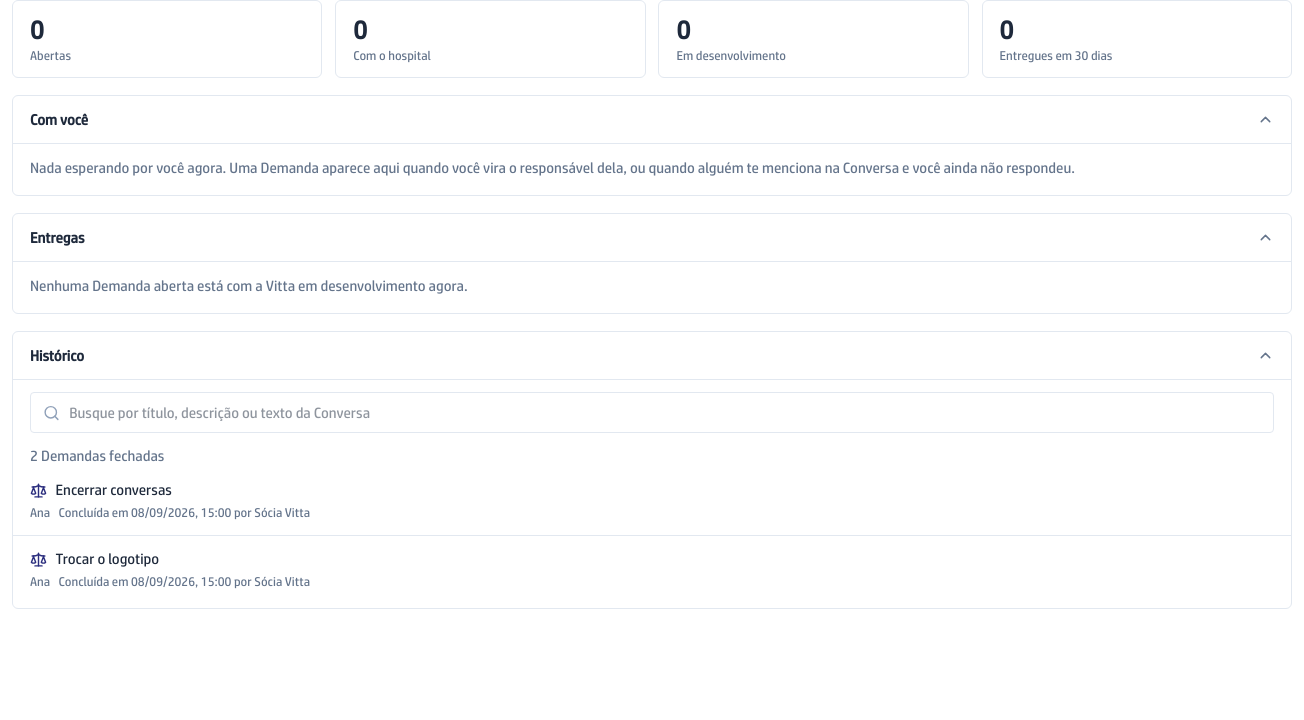
Test: Histórico › apagar a busca traz o Histórico inteiro de volta
The width and height of the screenshot is (1304, 720).
Expected: the text "Encerrar conversas" is shown, [56, 480, 172, 501]
Type "logotipo" into the search field named "Buscar no Histórico" at (652,413), box [30, 392, 1274, 433]
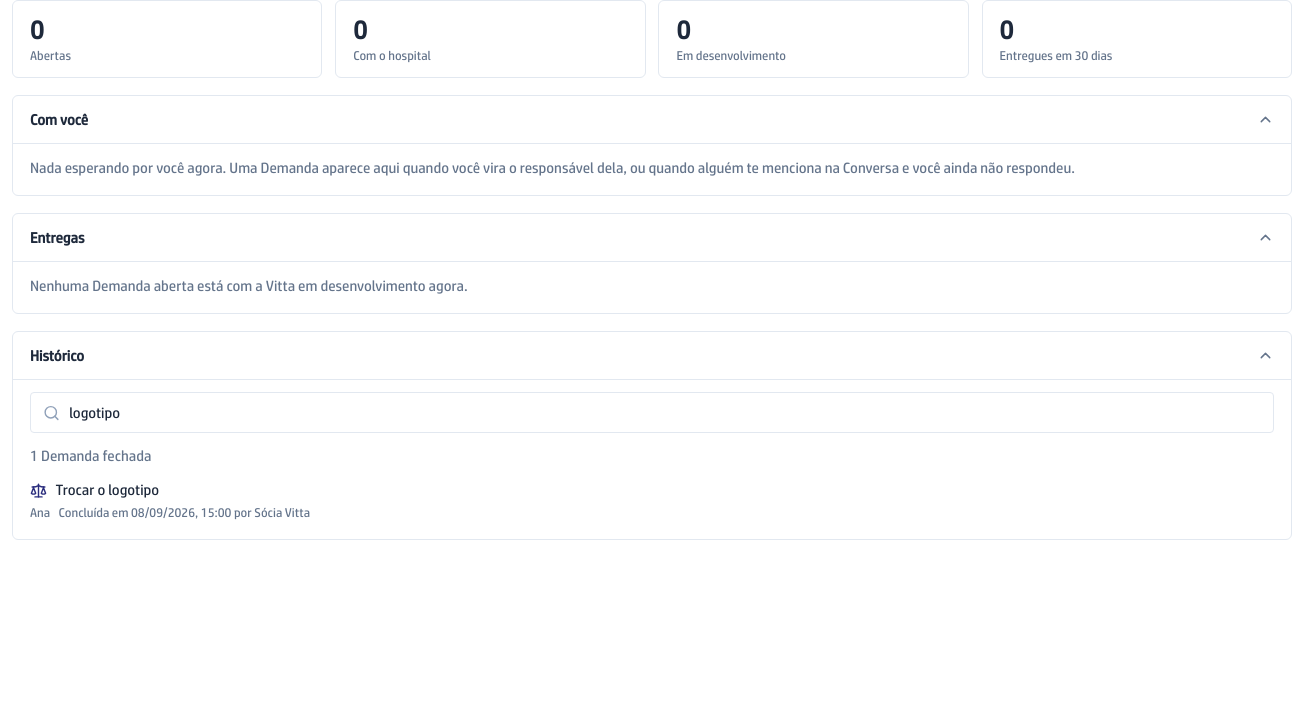
Expected: the button "Encerrar conversas" is gone
Clear the search field named "Buscar no Histórico" at (652,413), box [30, 392, 1274, 433]
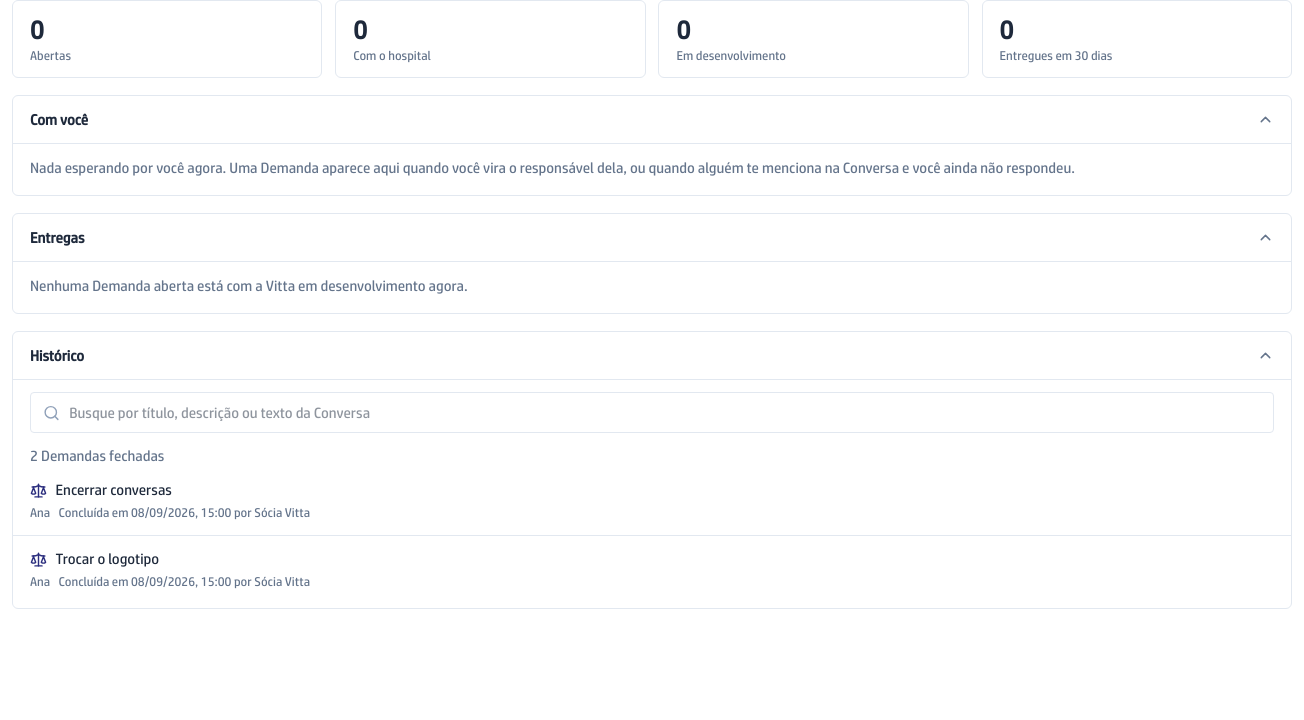
Expected: the text "Encerrar conversas" is shown, [56, 480, 172, 501]
